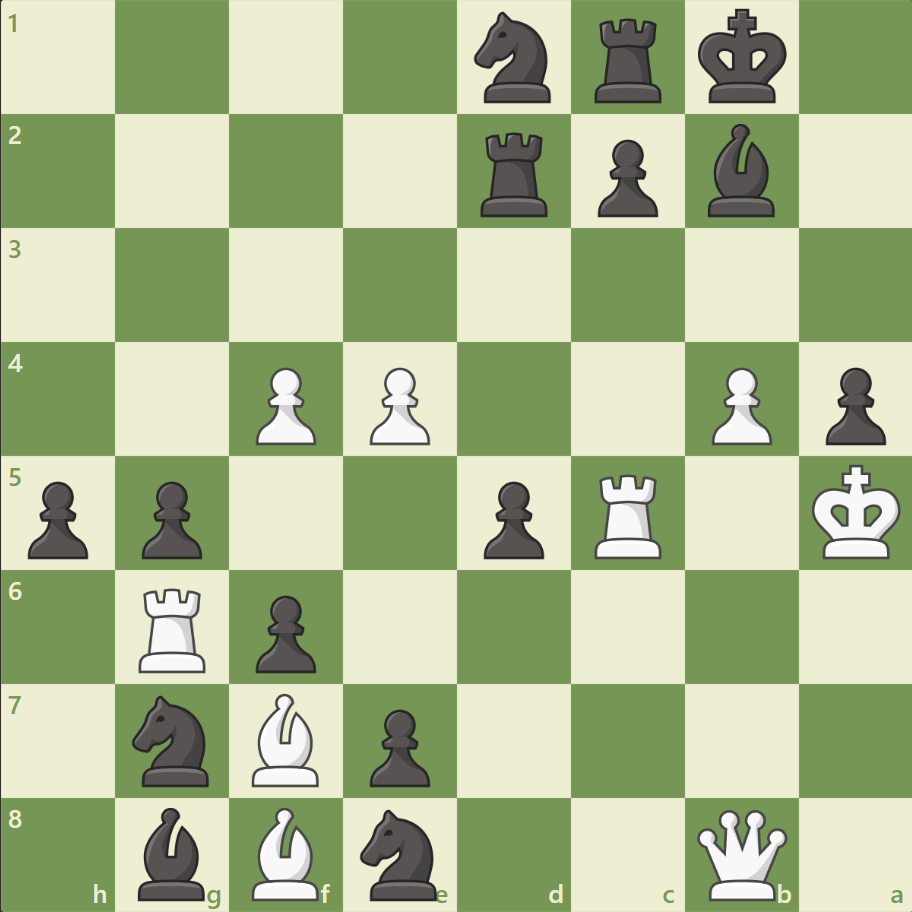B: (244, 801, 328, 904), (244, 687, 328, 790)
K: (806, 458, 906, 566)
P: (701, 359, 776, 450), (247, 359, 322, 450), (361, 359, 435, 450)
Q: (691, 804, 790, 903)
R: (587, 466, 670, 563), (133, 579, 215, 676)
b: (131, 801, 215, 904), (698, 120, 782, 222)
k: (692, 4, 792, 112)
n: (124, 688, 222, 791), (351, 802, 449, 904), (465, 7, 562, 110)
p: (247, 586, 322, 677), (474, 473, 549, 564), (133, 473, 208, 564), (20, 473, 95, 564), (361, 700, 435, 791), (815, 359, 889, 450), (588, 132, 662, 223)
r: (473, 125, 556, 222), (587, 12, 670, 109)
